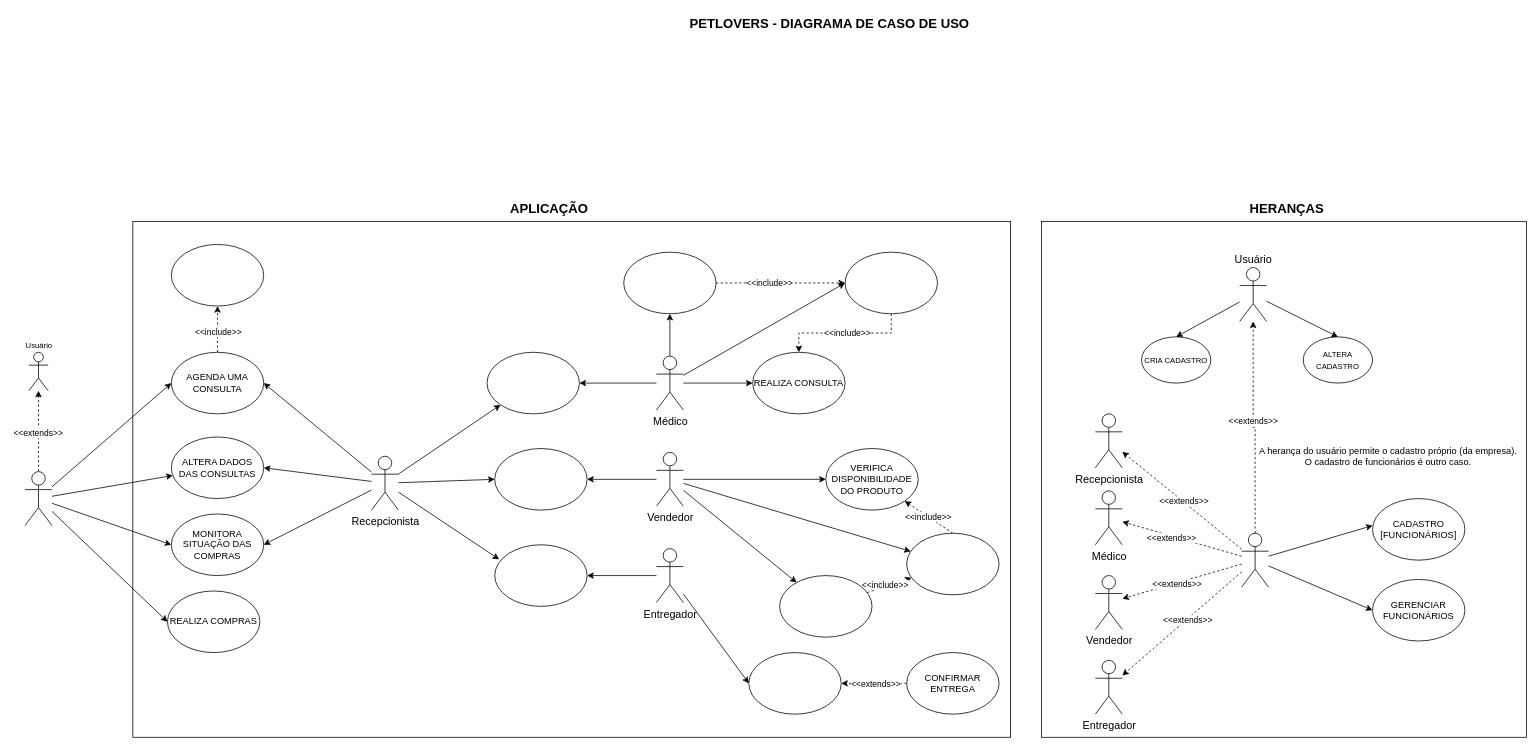
The diagram is 1540 pixels wide and 751 high, and some of its shapes have lost their labels. Each missing label, with the centre of its shape:
Cliente: the point at 38,498
PESCREVE MEDICAÇÕES: the point at 669,282
Petshop (Administrador): the point at 1255,559
REALIZA ENTREGA: the point at 794,683
REALIZA VENDA: the point at 952,563
RECEPCIONA CLIENTES: the point at 540,479
RECEPCIONA PETS: the point at 532,383
REGISTRA INFORMAÇÕES DA CONSULTA: the point at 890,282
REGISTRA INFORMAÇÕES ENTREGAS E RECEBIMENTOS: the point at 540,575
REGISTRA VENDA: the point at 825,606
VERIFICA DISPONIBILIDADES NA AGENDA: the point at 217,275
